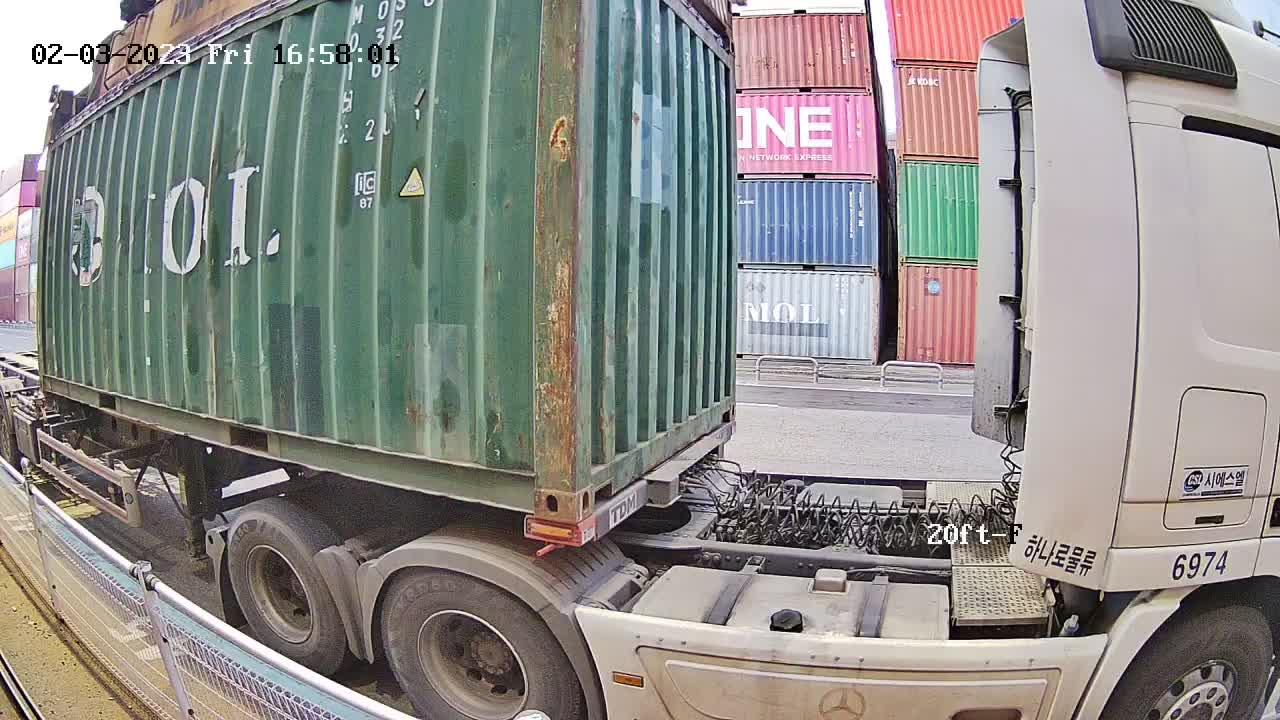Chassis: (527, 423, 734, 549)
Cone: (531, 521, 580, 554)
Hole_L: (578, 435, 620, 524)
Hole_R: (503, 446, 577, 525), (713, 387, 736, 428)
Tire: (383, 567, 579, 717), (227, 505, 345, 673)
